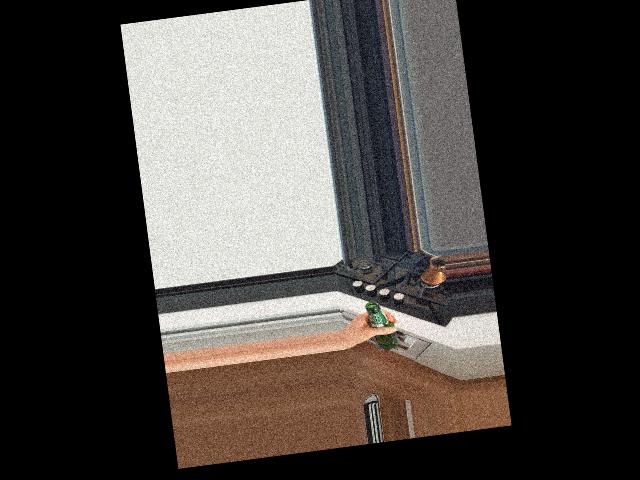beer: (364, 299, 398, 352)
